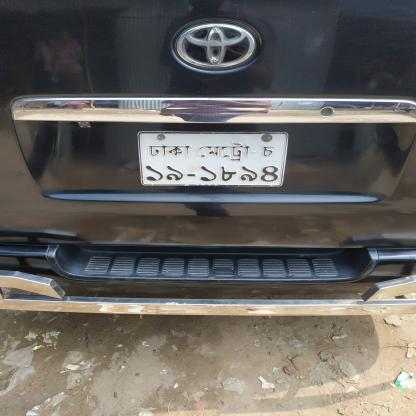license_plate: (76, 124, 380, 206)
